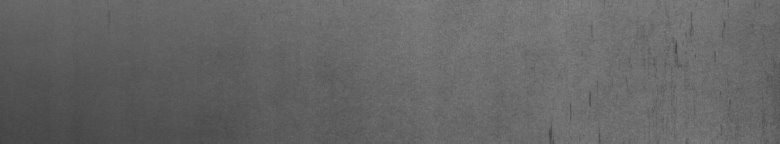ka: (664, 16, 725, 67)
